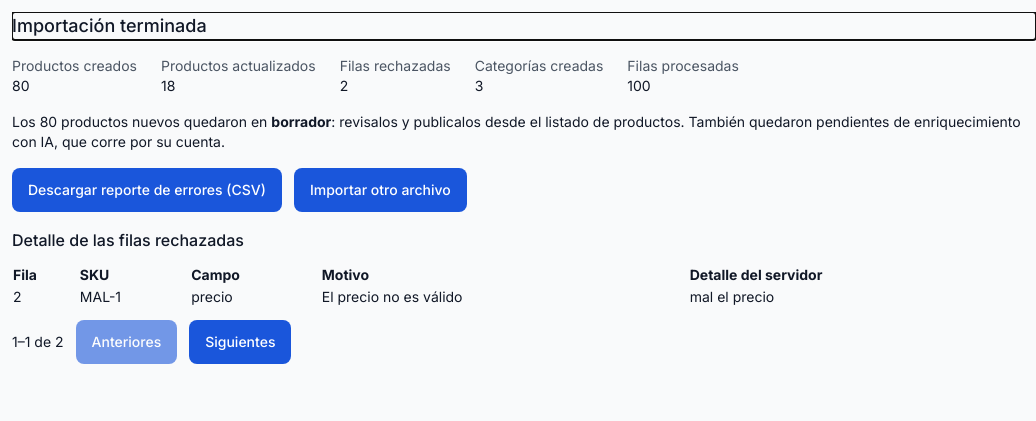
Test: ImportResult — completado › un fallo de la descarga se muestra sin perder el resumen
Click the button "Descargar reporte de errores (CSV)" at (147, 190), box [12,168,282,212]
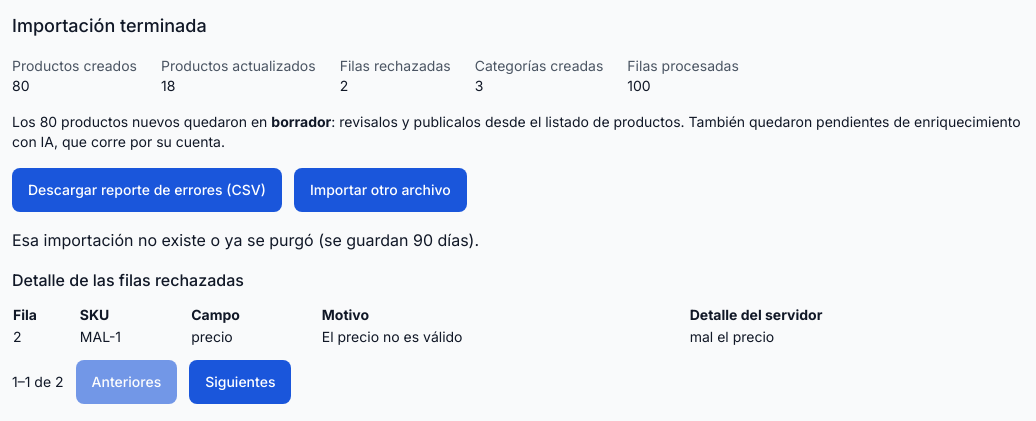
Expected: the heading "Importación terminada" is shown, [12,15,207,36]
Now the message reads "Esa importación no existe o ya se purgó (se guardan 90 días).", box [12,230,479,250]
